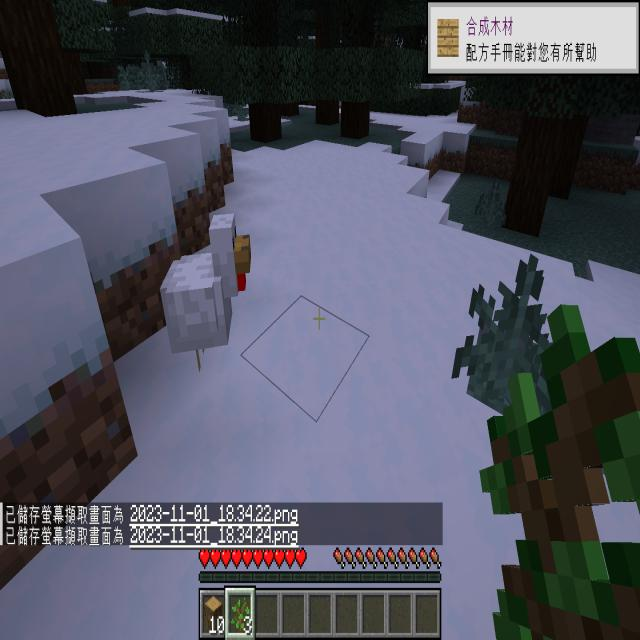chicken: (137, 198, 299, 393)
